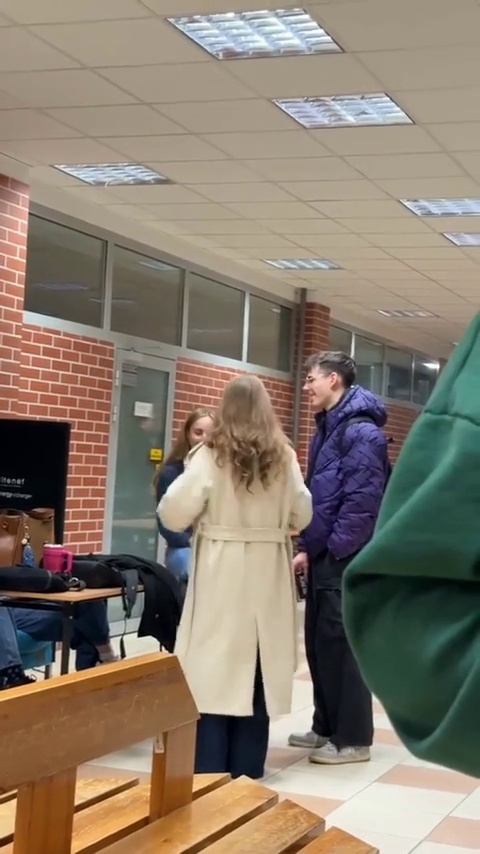no vest: (178, 368, 295, 727), (297, 341, 403, 733)
